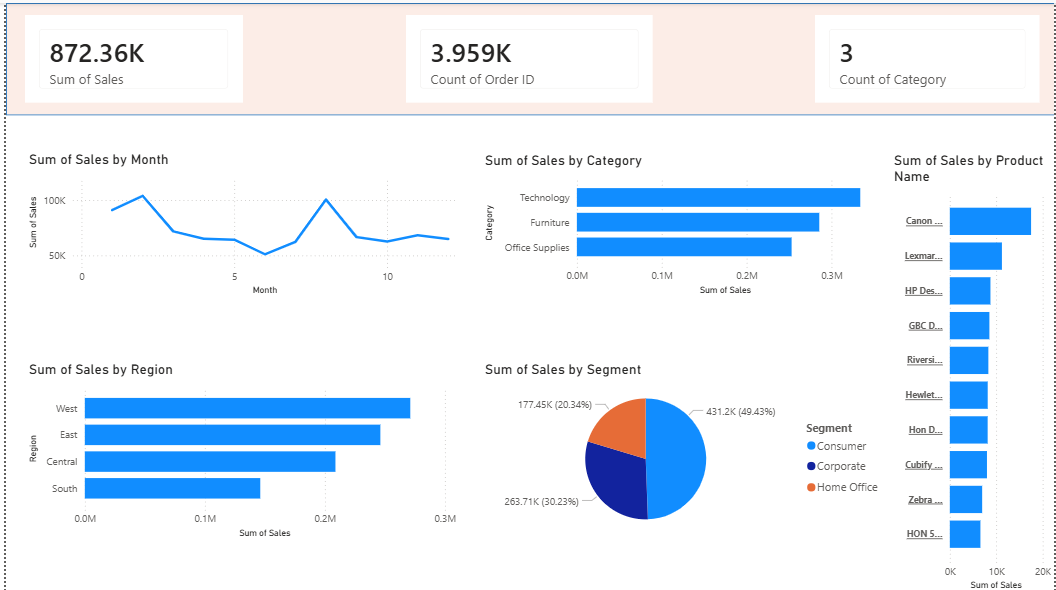

This screenshot's page, from the dashboard's own definition file:
{"tool":"powerbi","page":{"name":"Page 1","canvas":[1280,720],"ordinal":0},"visuals":[{"type":"shape","box":[0,58.6,1280.1,111.1],"z":0},{"type":"cardVisual","fields":{"Data":["CountNonNull(cleaned_superstore.Order ID)"]},"box":[524.7,65.9,230.6,97.6],"z":1000},{"type":"cardVisual","fields":{"Data":["Sum(cleaned_superstore.Sales)"]},"box":[23.2,65.9,225.8,97.6],"z":2000},{"type":"cardVisual","fields":{"Data":["Count(cleaned_superstore.Category)"]},"box":[994.6,65.9,258.7,97.6],"z":3000},{"type":"lineChart","title":" Monthly Sales Trend","fields":{"Y":["Sum(cleaned_superstore.Sales)"],"Category":["cleaned_superstore.Month"]},"box":[22.9,180,531.4,180],"z":4000},{"type":"barChart","title":" Sales by Category","fields":{"Y":["Sum(cleaned_superstore.Sales)"],"Category":["cleaned_superstore.Category"]},"box":[580,181.4,498.6,178.6],"z":5000},{"type":"barChart","title":"Region-Wise Sales","fields":{"Y":["Sum(cleaned_superstore.Sales)"],"Category":["cleaned_superstore.Region"]},"box":[22.9,437.1,531.4,220],"z":6000},{"type":"pieChart","title":"Sales by Segment","fields":{"Y":["Sum(cleaned_superstore.Sales)"],"Category":["cleaned_superstore.Segment"]},"box":[580,437,499,220],"z":6001},{"type":"barChart","title":"Sales by Product Name","fields":{"Y":["Sum(cleaned_superstore.Sales)"],"Category":["cleaned_superstore.Product Name"]},"box":[1078.7,181.3,201.3,538.7],"z":6002},{"type":"textbox","box":[123.3,0,1055.6,48.8],"z":6003}]}

Visuals, with their boxes in screenshot pixels (x1, y1, x2, y2), scaled from the page's 1280x720 canvas onto the 1056x590 screenshot:
shape: BBox(0, 48, 1055, 139)
cardVisual - CountNonNull(cleaned_superstore.Order ID): BBox(433, 54, 623, 134)
cardVisual - Sum(cleaned_superstore.Sales): BBox(19, 54, 205, 134)
cardVisual - Count(cleaned_superstore.Category): BBox(821, 54, 1034, 134)
" Monthly Sales Trend" lineChart: BBox(19, 148, 457, 295)
" Sales by Category" barChart: BBox(478, 149, 890, 295)
"Region-Wise Sales" barChart: BBox(19, 358, 457, 538)
"Sales by Segment" pieChart: BBox(478, 358, 890, 538)
"Sales by Product Name" barChart: BBox(890, 149, 1055, 589)
textbox: BBox(102, 0, 973, 40)
